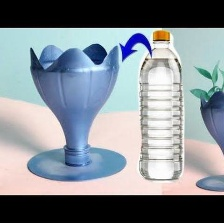bottle: (131, 26, 189, 184)
